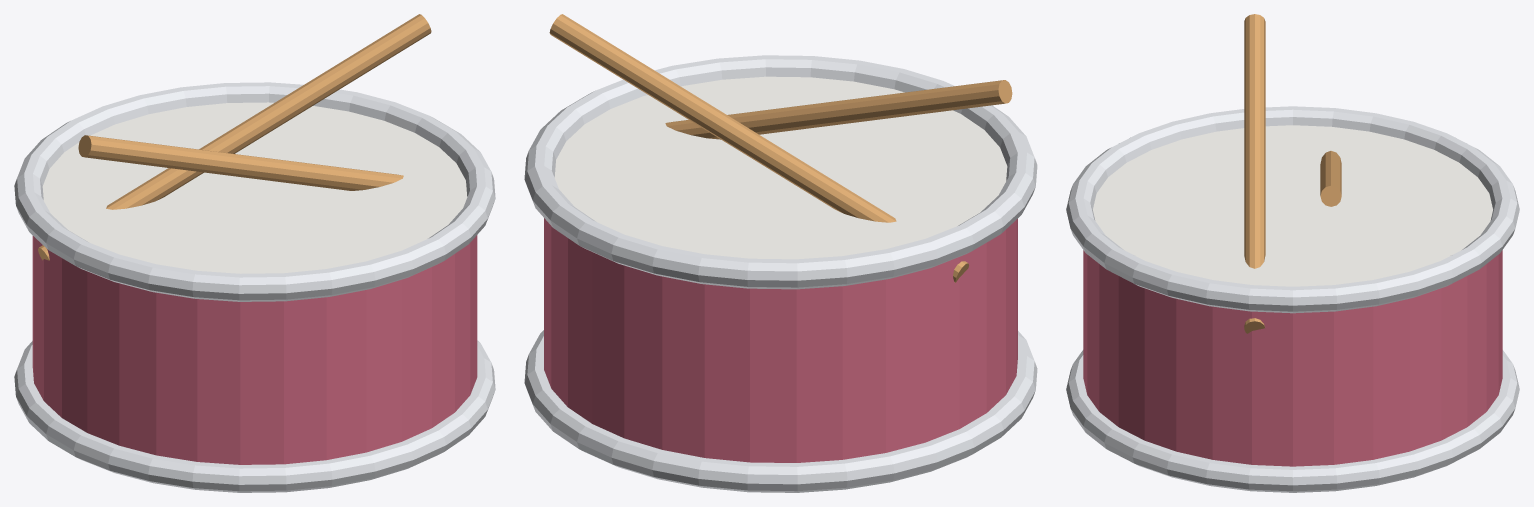
The model's file is drum.glb.
3 renders of one model, left to right at view 1: azimuth 30°, elevation 25°; view 2: azimuth 150°, elevation 25°; view 3: azimuth 270°, elevation 25°, orthographic. The views are drawn at different scales.
Bounding box in the file's own units: 1.19 × 0.8714 × 1.19.
